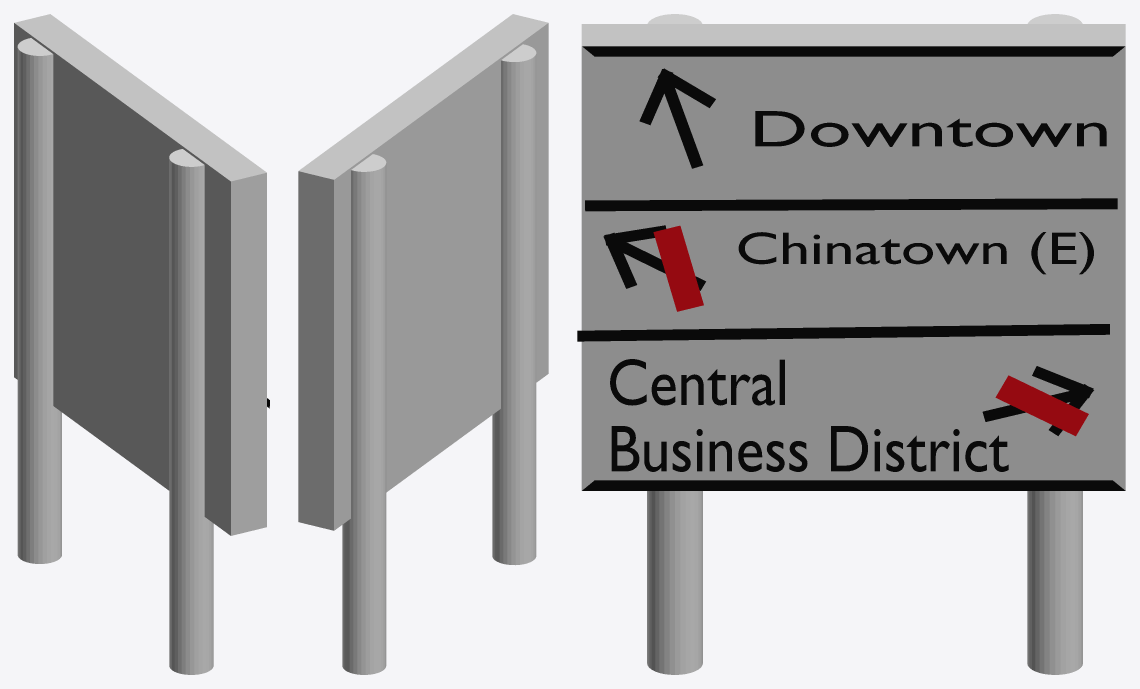
The model's file is UK_junction_sign_21.fbx.
3 views of the same model, side by side, from view 1: azimuth 30°, elevation 25°; view 2: azimuth 150°, elevation 25°; view 3: azimuth 270°, elevation 25° (orthographic). The views are drawn at different scales.
Visible parts, largest first — view 1: Cube.001, Cylinder.001, Cylinder; view 2: Cube.001, Cylinder, Cylinder.001; view 3: Cube.001, Cylinder.001, Cylinder, Text.003, Plane.001, Plane.012, Text, Text.001, Plane.009, Plane.007, Plane.003.
Part boxes in pixels (x1=…): Cube.001: x1=14, y1=14, x2=266, y2=535; Cylinder.001: x1=17, y1=38, x2=61, y2=563; Cylinder: x1=169, y1=149, x2=213, y2=674; Cube.001: x1=298, y1=14, x2=548, y2=530; Cylinder: x1=492, y1=44, x2=536, y2=565; Cylinder.001: x1=342, y1=154, x2=386, y2=674; Cube.001: x1=581, y1=24, x2=1125, y2=490; Cylinder.001: x1=1027, y1=14, x2=1082, y2=674; Cylinder: x1=647, y1=14, x2=702, y2=674; Text.003: x1=610, y1=359, x2=1008, y2=471; Plane.001: x1=585, y1=198, x2=1117, y2=211; Plane.012: x1=577, y1=324, x2=1109, y2=341; Text: x1=755, y1=111, x2=1106, y2=146; Text.001: x1=738, y1=232, x2=1093, y2=274; Plane.009: x1=995, y1=375, x2=1088, y2=436; Plane.007: x1=653, y1=225, x2=703, y2=311; Plane.003: x1=661, y1=82, x2=702, y2=168.
Bounding box in the file's own units: 6.29 × 50.59 × 39.25.
